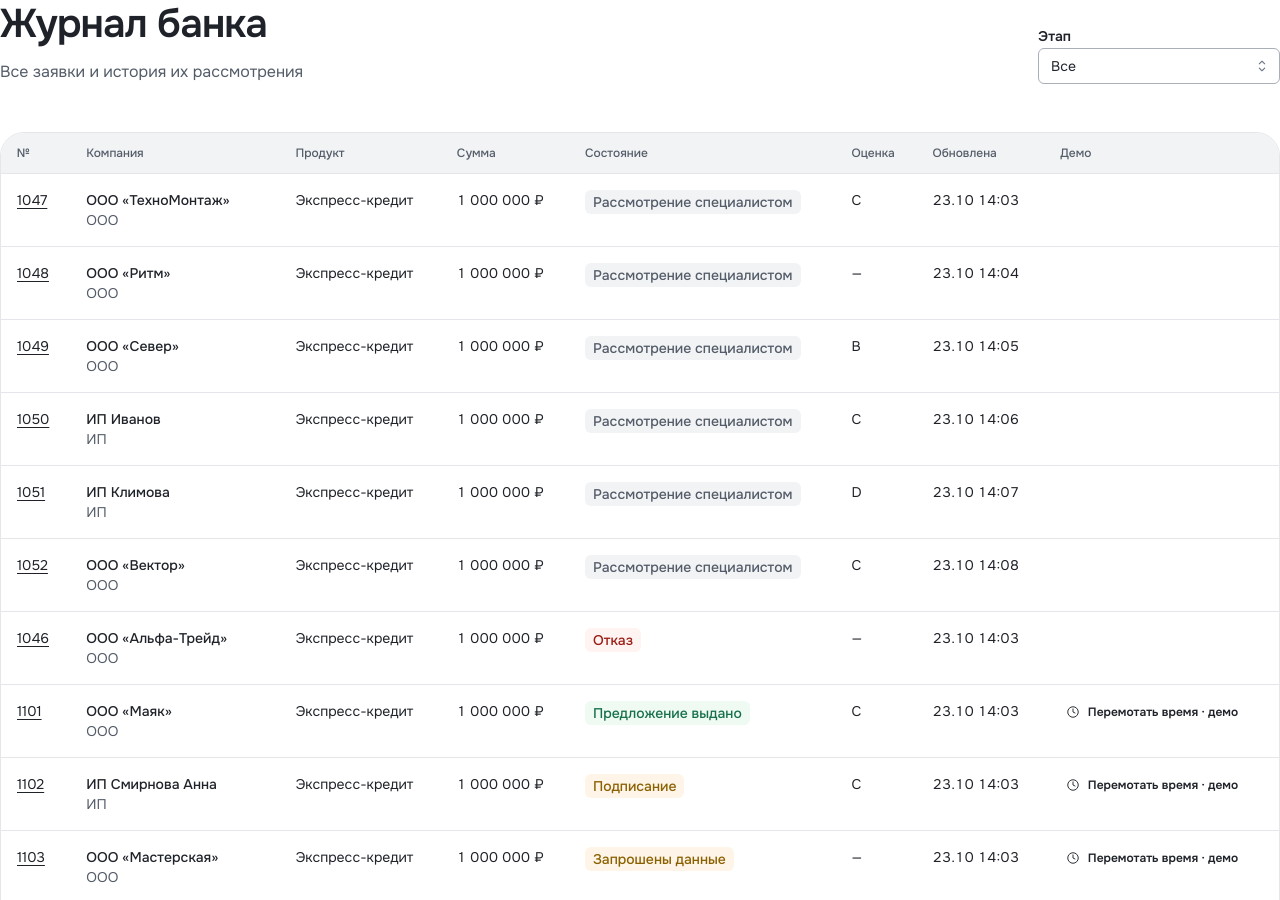
Test case: не отправляет 0 дней и показывает ошибку
Click the button "Перемотать время · демо" in the row of "Предложение выдано" at (1153, 712), box [1060,701,1246,723]
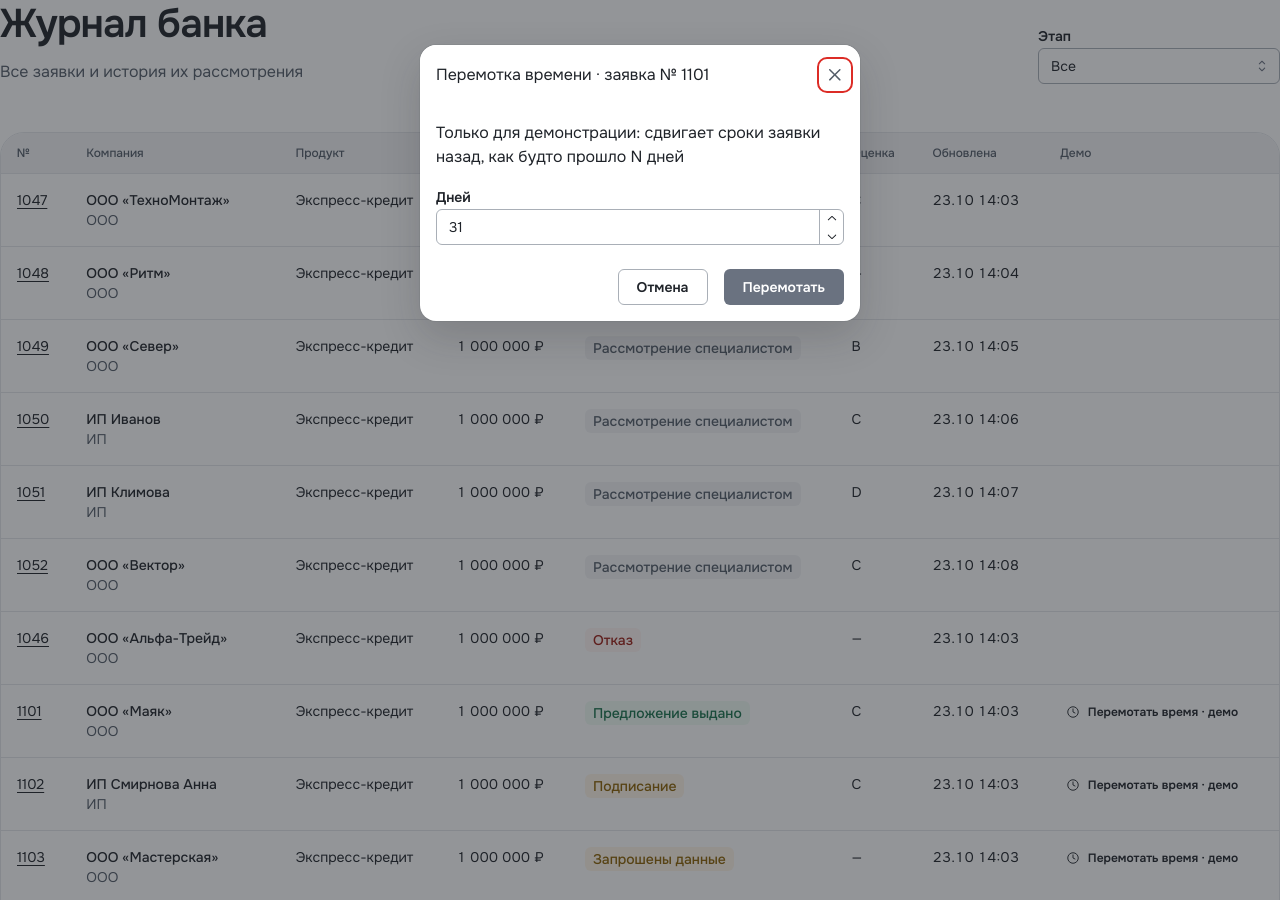
Replace the text in the field labelled "Дней" with "0" at (640, 227), box [436,209,844,245]
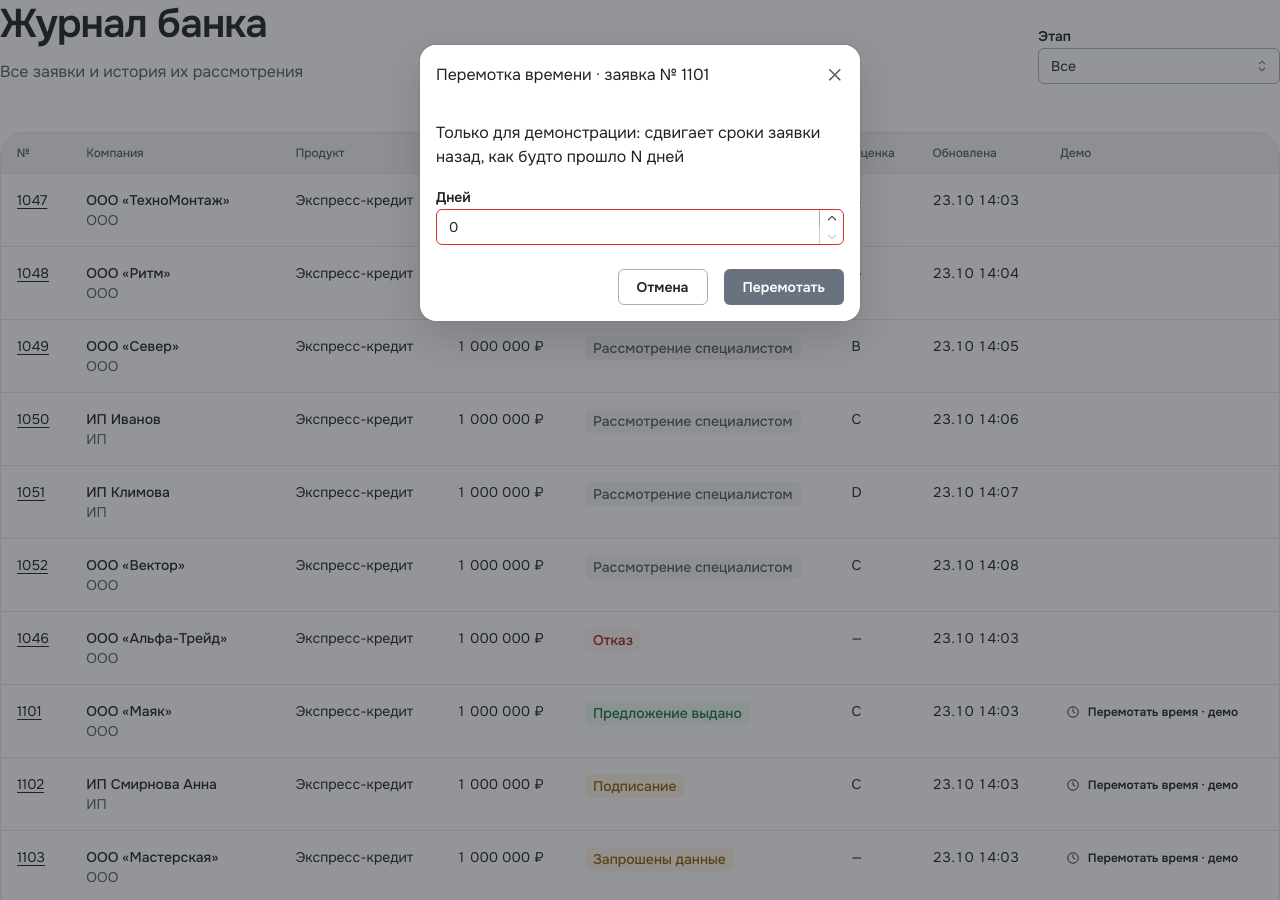
Click the button "Перемотать" at (784, 287), box [724,269,844,305]
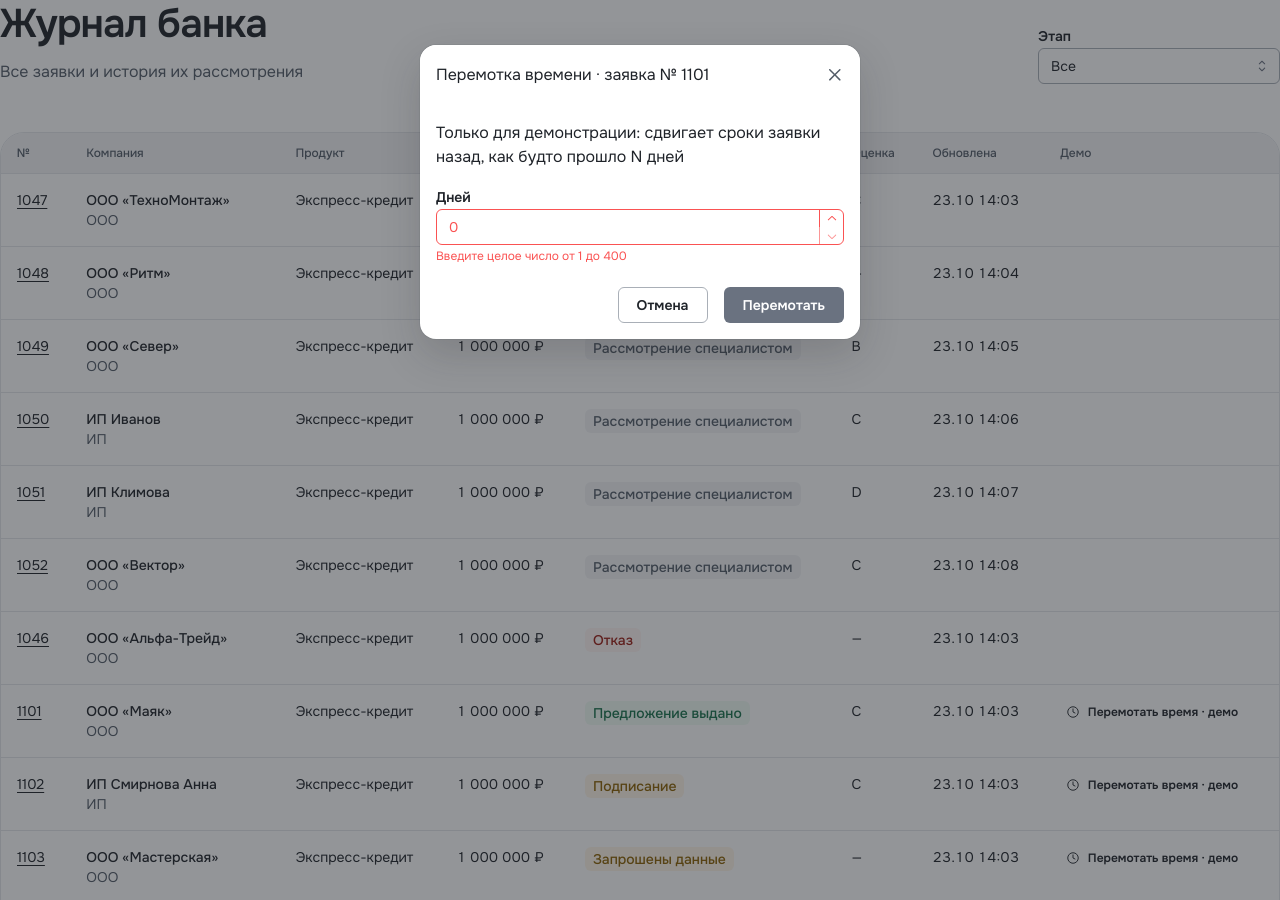
Expected: the text "Введите целое число от 1 до 400" is shown, [436,248,627,264]
